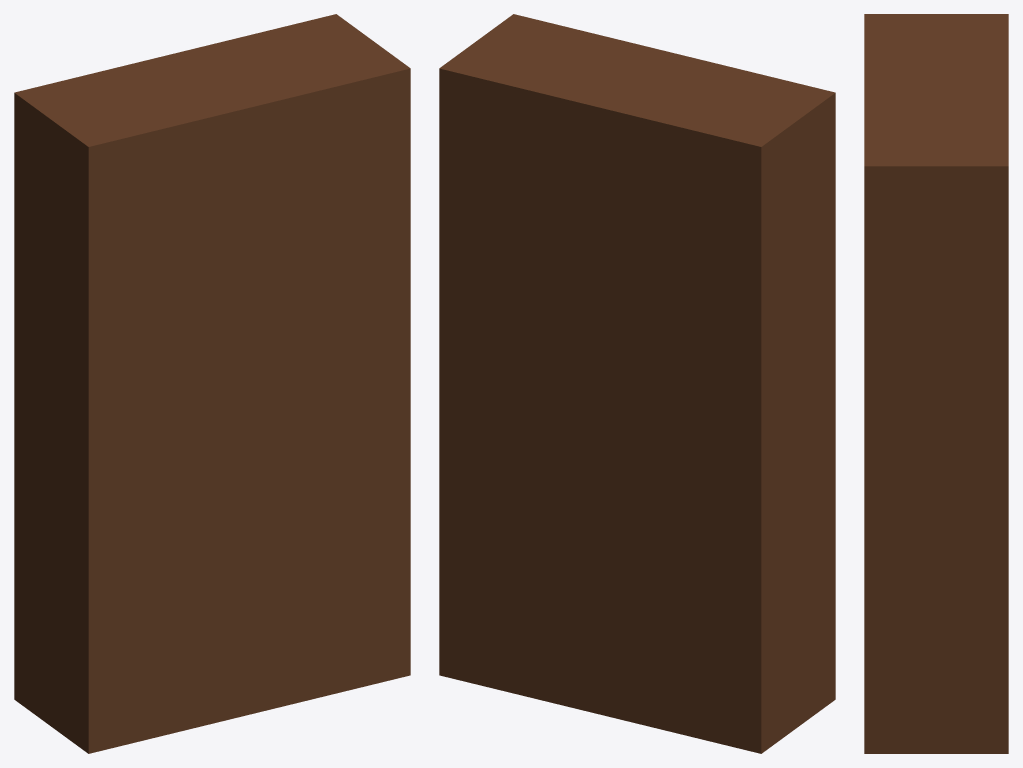
The model's file is f_bookshelf.glb.
3 views of the same model, side by side, from view 1: azimuth 30°, elevation 25°; view 2: azimuth 150°, elevation 25°; view 3: azimuth 270°, elevation 25° (orthographic). The views are drawn at different scales.
Parts seen in each view (by area): view 1: bookshelf; view 2: bookshelf; view 3: bookshelf.
Part boxes in pixels (x1,y1,x2,y2): bookshelf: (14, 14, 410, 753); bookshelf: (439, 14, 835, 753); bookshelf: (864, 14, 1008, 753).
Size of the model in its own units: 1 by 1.8 by 0.4.
